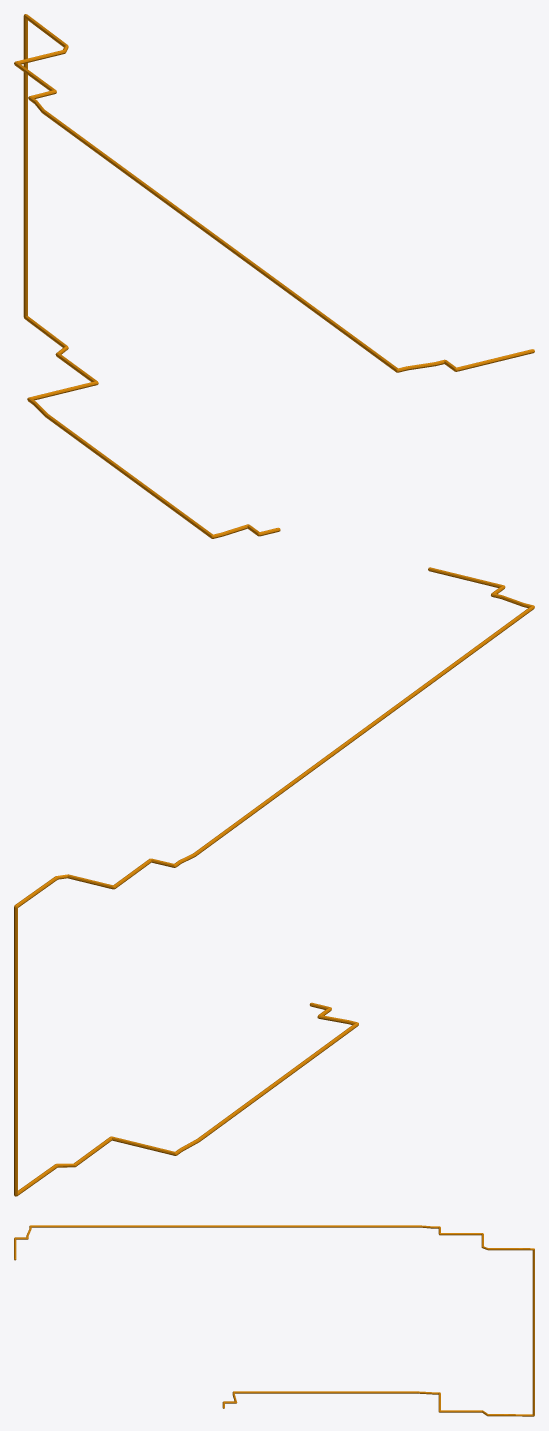
3 views of the same model, one above another, from view 1: azimuth 30°, elevation 25°; view 2: azimuth 150°, elevation 25°; view 3: azimuth 270°, elevation 25° (orthographic). The views are drawn at different scales.
Size of the model in its own units: 656 by 1520 by 4265.
